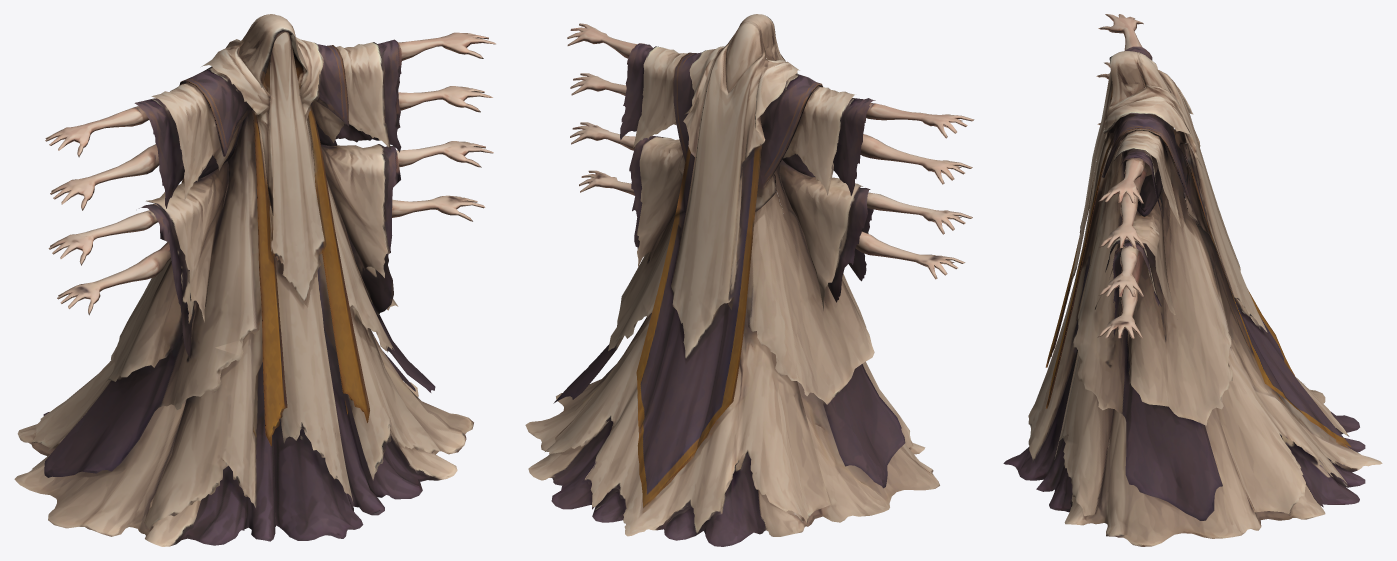
The model's file is B05_hospice_mother.glb.
The picture shows the model from 3 angles, left to right: view 1: azimuth 30°, elevation 25°; view 2: azimuth 150°, elevation 25°; view 3: azimuth 270°, elevation 25°; orthographic projection. The views are drawn at different scales.
Visible parts, largest first — view 1: b3f9d3cf_d2ac_4cba_b2c6_030748403a15; view 2: b3f9d3cf_d2ac_4cba_b2c6_030748403a15; view 3: b3f9d3cf_d2ac_4cba_b2c6_030748403a15.
Boxes of the visible parts, <box> form: b3f9d3cf_d2ac_4cba_b2c6_030748403a15: <box>14,14,495,546</box>; b3f9d3cf_d2ac_4cba_b2c6_030748403a15: <box>525,14,974,546</box>; b3f9d3cf_d2ac_4cba_b2c6_030748403a15: <box>1003,14,1382,546</box>.
Size of the model in its own units: 0.9546 by 0.9819 by 0.814.
1 material, 1 textured.
